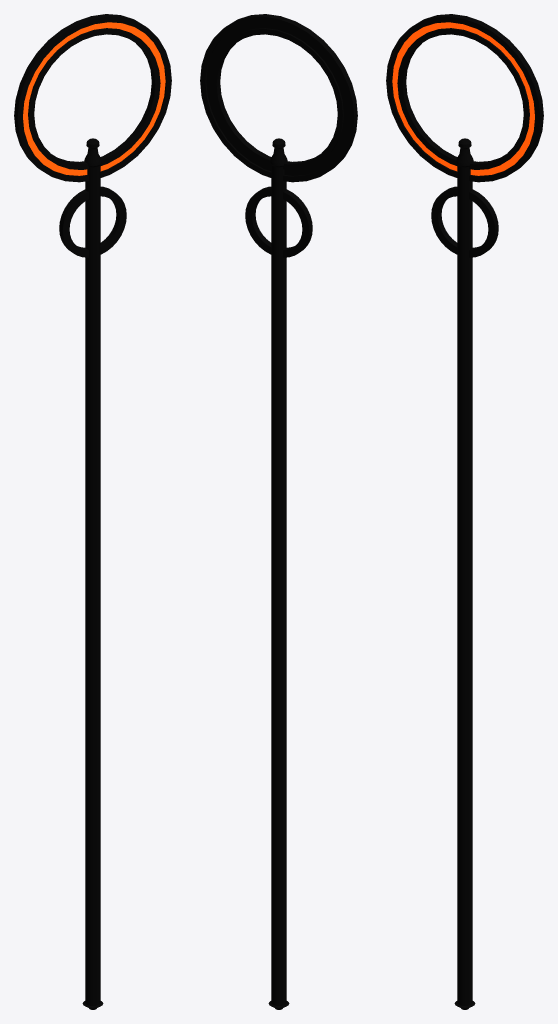
The model's file is Staff.fbx.
The picture shows the model from 3 angles, left to right: view 1: azimuth 30°, elevation 25°; view 2: azimuth 150°, elevation 25°; view 3: azimuth 330°, elevation 25°; orthographic projection.
Parts seen in each view (by area): view 1: Staff; view 2: Staff; view 3: Staff.
Part boxes in pixels (x1=…): Staff: x1=14, y1=14, x2=171, y2=1009; Staff: x1=200, y1=14, x2=357, y2=1009; Staff: x1=386, y1=14, x2=543, y2=1009.
Bounding box in the file's own units: 0.3176 × 1.95 × 0.037.
